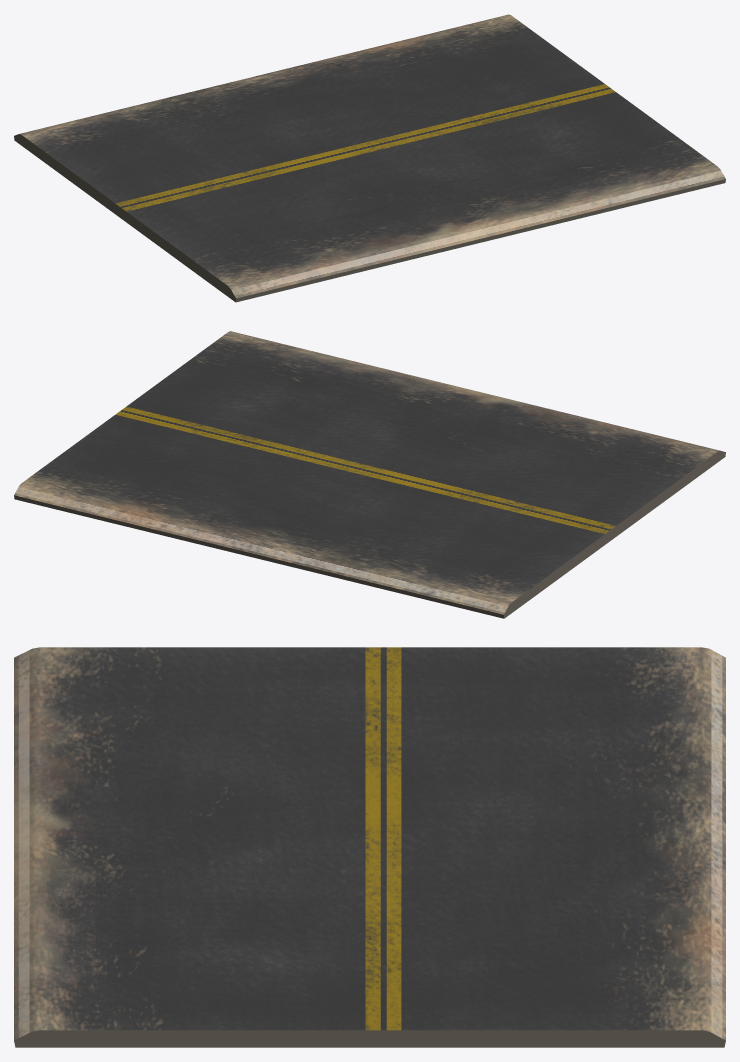
The model's file is Road1.fbx.
The picture shows the model from 3 angles, top to bottom: view 1: azimuth 30°, elevation 25°; view 2: azimuth 150°, elevation 25°; view 3: azimuth 270°, elevation 25°; orthographic projection. The views are drawn at different scales.
Parts seen in each view (by area): view 1: pCube1; view 2: pCube1; view 3: pCube1.
Boxes of the visible parts, x1=… form: pCube1: x1=14, y1=14, x2=725, y2=302; pCube1: x1=14, y1=331, x2=725, y2=618; pCube1: x1=14, y1=647, x2=725, y2=1047.
Size of the model in its own units: 14.26 by 0.3018 by 11.2.
Materials: 1 (1 with a texture image).
